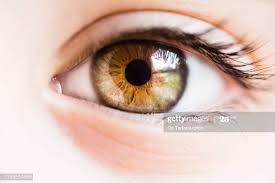pupil: (90, 40, 187, 113)
